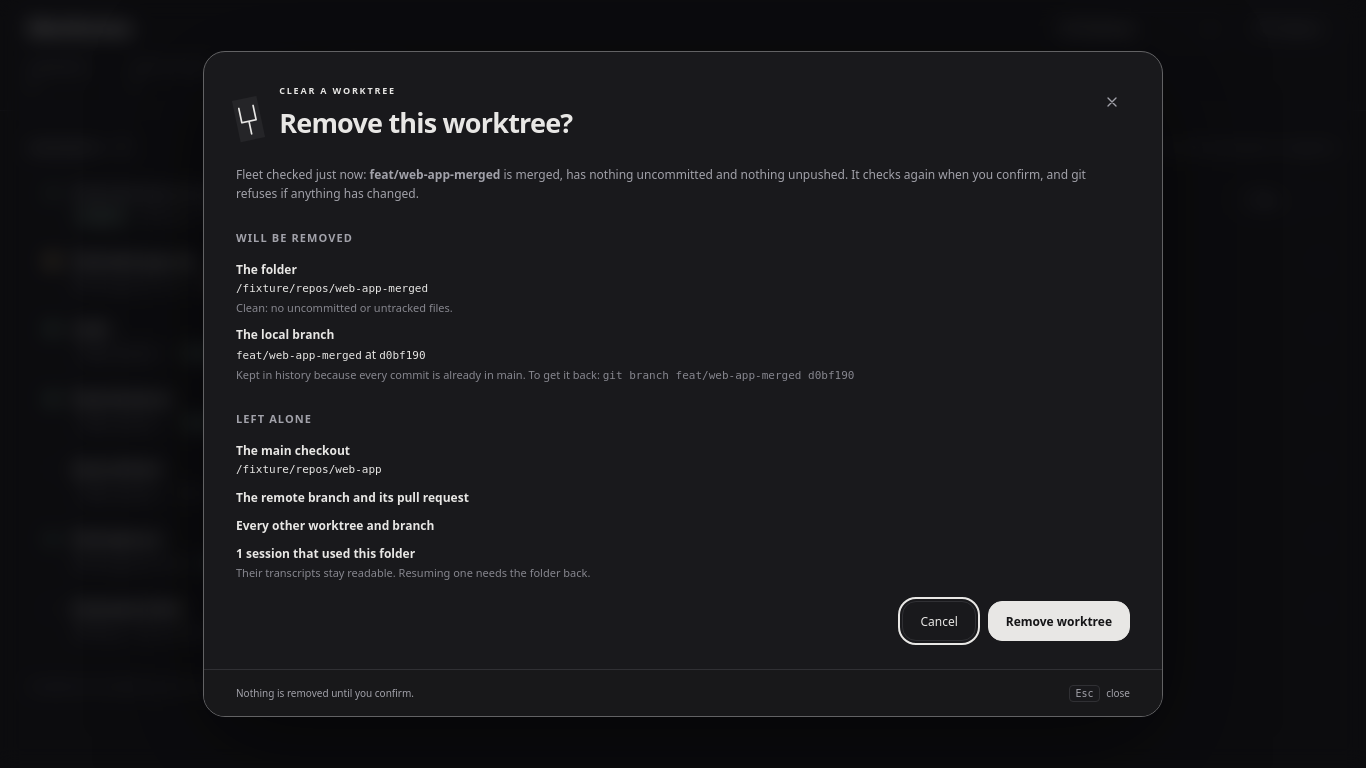
Clear worktree confirmation › says so when the branch could not be deleted
Click the button "Remove worktree".
click(1059, 621)  # box [988,601,1130,641]
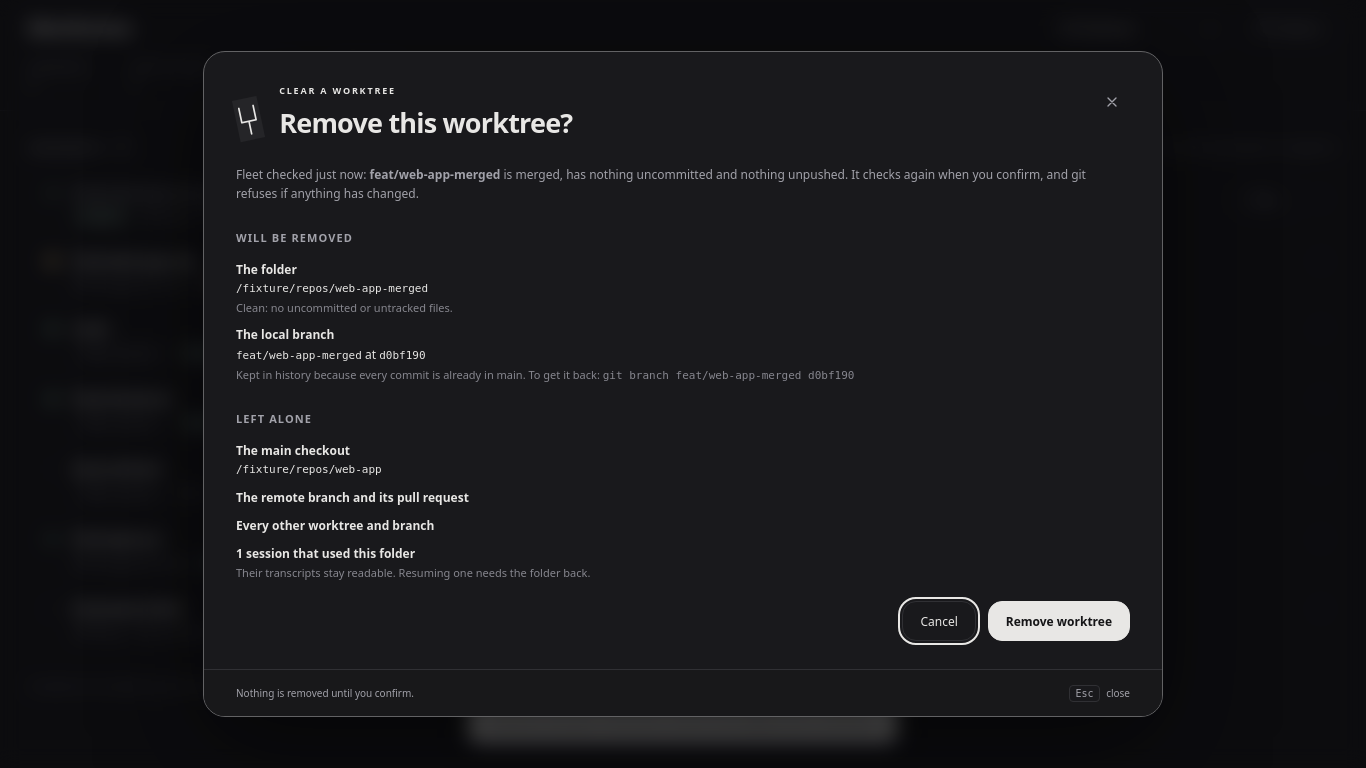
Now the message with id "toast" reads "Worktree removed. The branch could not be deleted and is still there.", box [488,714,878,731]
